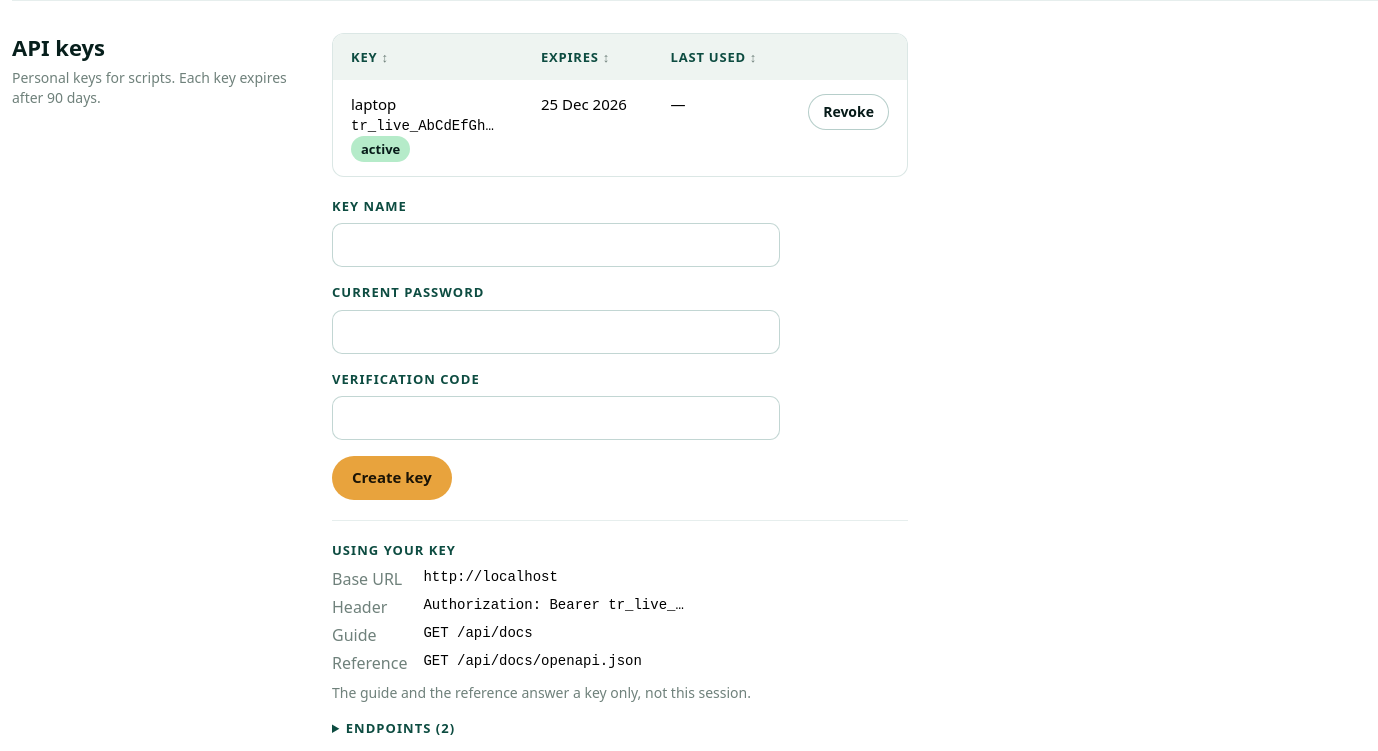
RFC-82 R7 ApiKeysSection › shows the generic message when revoking a key fails
What coordinates should you click on to do the following:
click the button with aria-label "Revoke laptop"
I would click on:
 (849, 112)
Its box is [808,94,889,130].
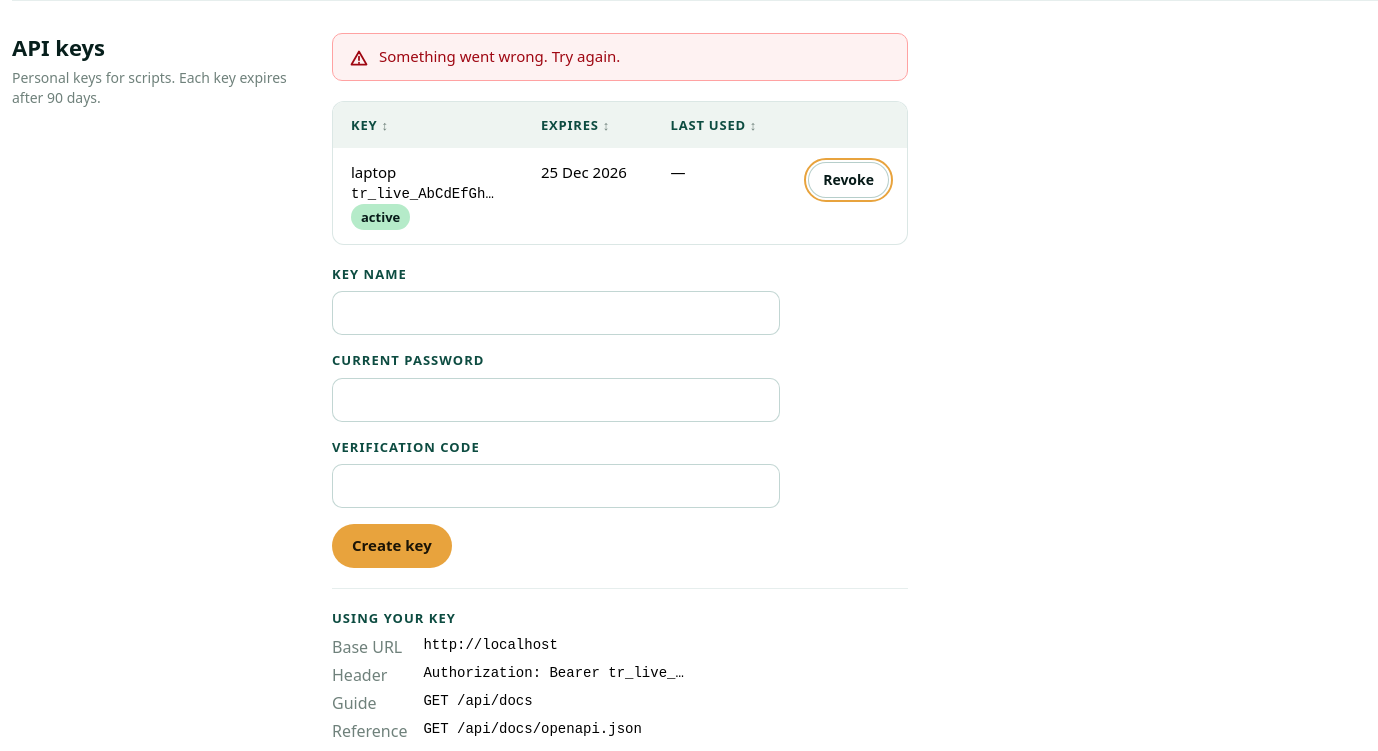
Result: the text "Something went wrong. Try again." is shown at [379,46,620,68]
